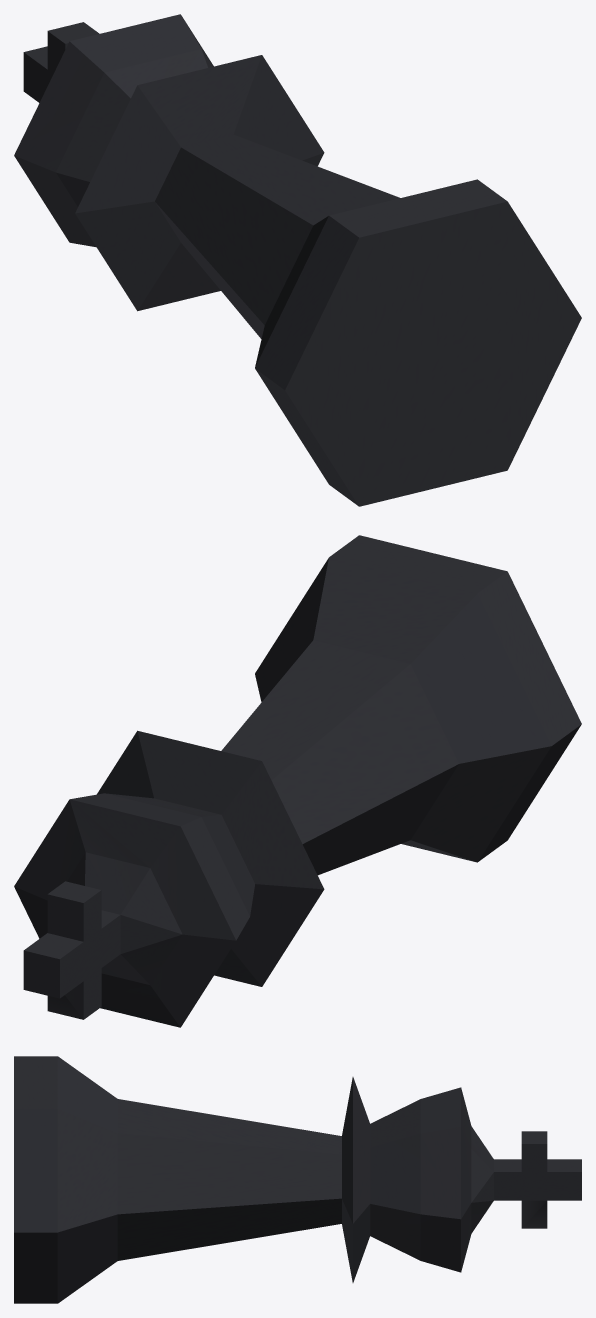
File: statue_symbol_chess_black_1.FBX
3 views of the same model, one above another, from view 1: azimuth 30°, elevation 25°; view 2: azimuth 150°, elevation 25°; view 3: azimuth 270°, elevation 25° (orthographic). The views are drawn at different scales.
Parts seen in each view (by area): view 1: acc_2.001; view 2: acc_2.001; view 3: acc_2.001.
Boxes of the visible parts, <box> form: acc_2.001: <box>14,14,581,506</box>; acc_2.001: <box>14,535,581,1027</box>; acc_2.001: <box>14,1056,581,1303</box>.
Bounding box in the file's own units: 149 × 129 × 341.
